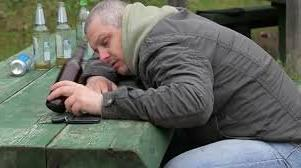Drunk: (86, 22, 126, 73)
